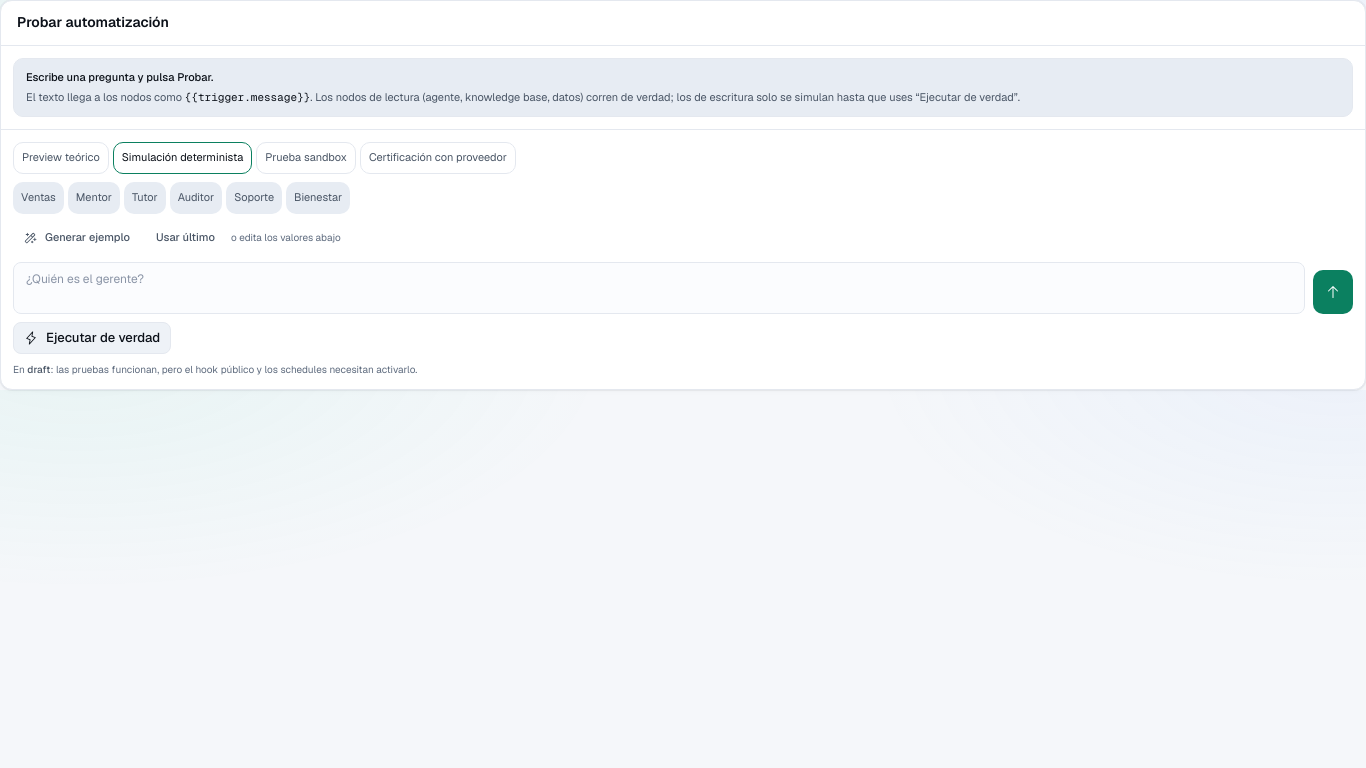
WorkflowTestPanel (dock de prueba) › avisa cuando la respuesta fue un eco por falta de agente
Type "hola" into the text box with test id "wf-test-payload" at (659, 288), box [13,262,1305,314]
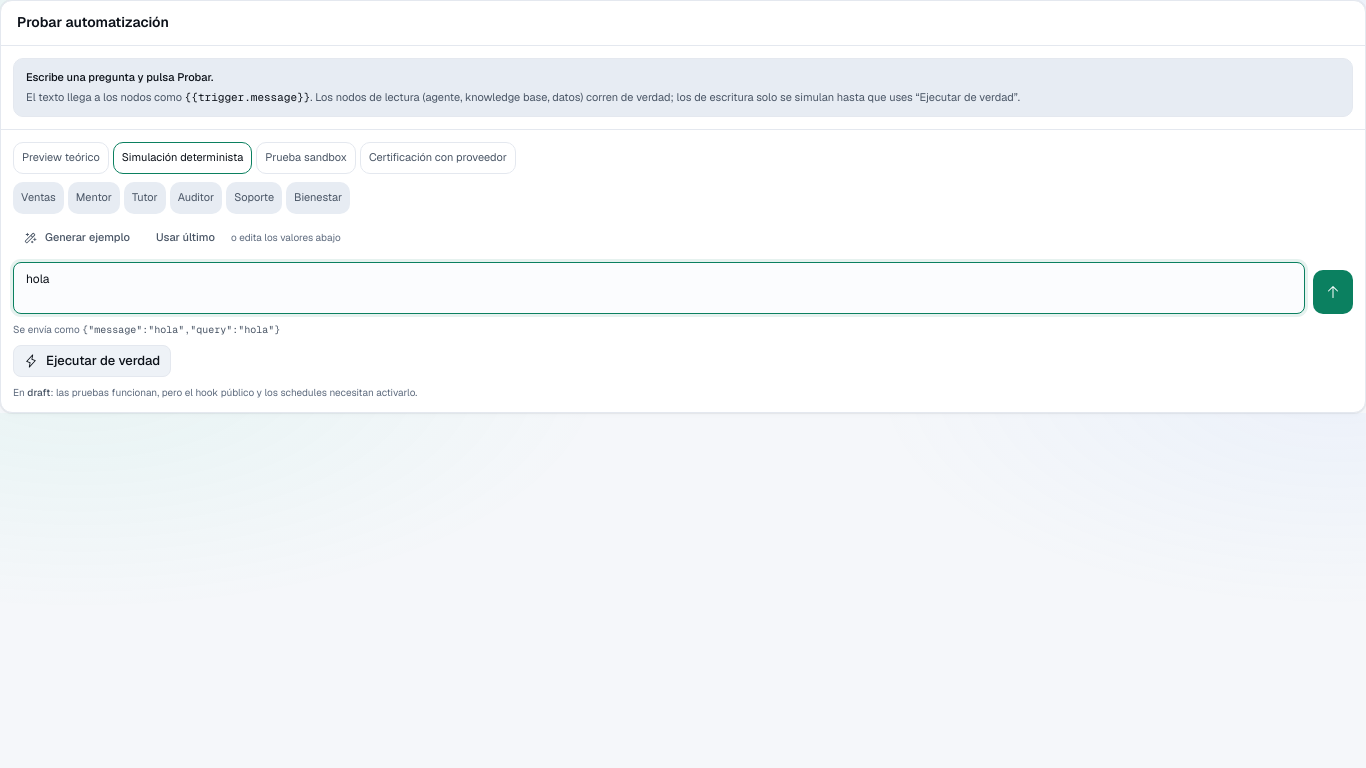
Click the button with test id "wf-run" at (92, 361), box [13,345,171,377]
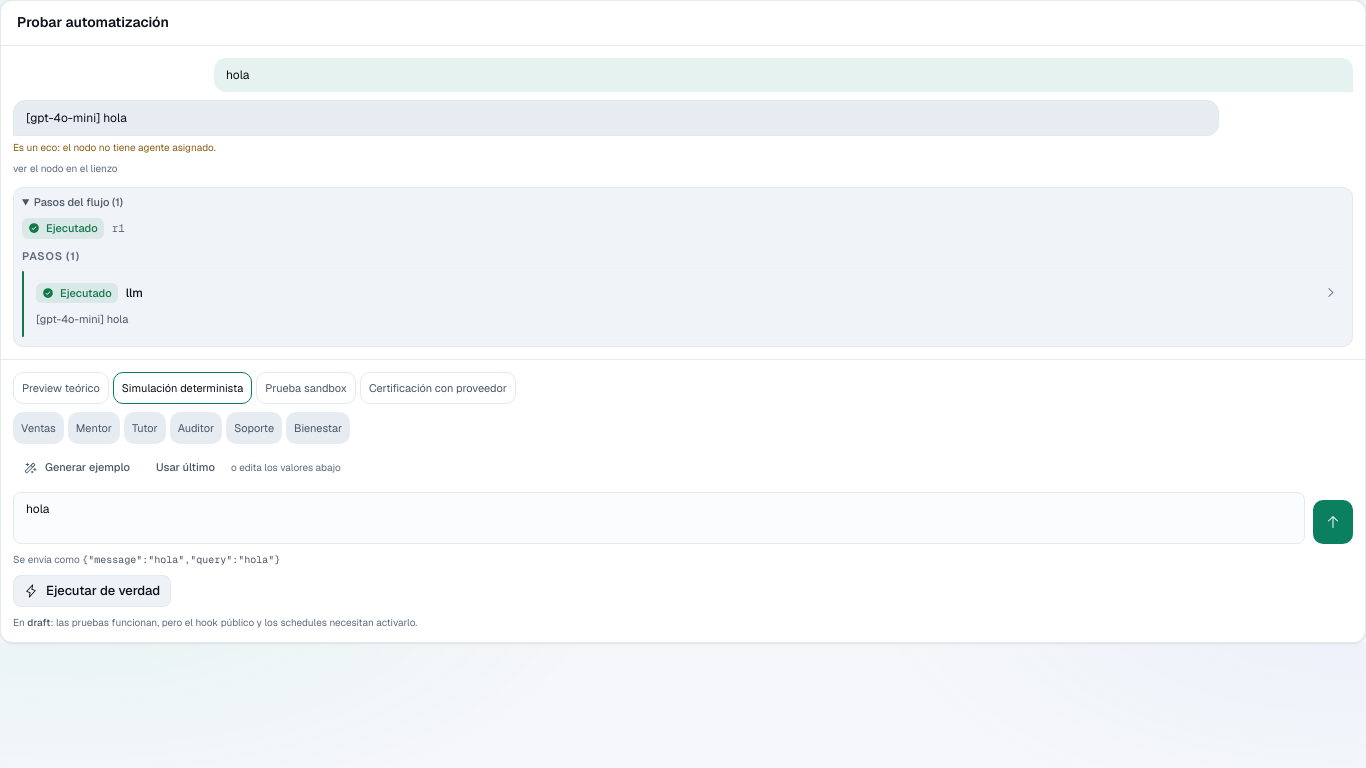
Expected: the text "Es un eco: el nodo no tiene agente asignado." is shown, [13,141,216,154]
